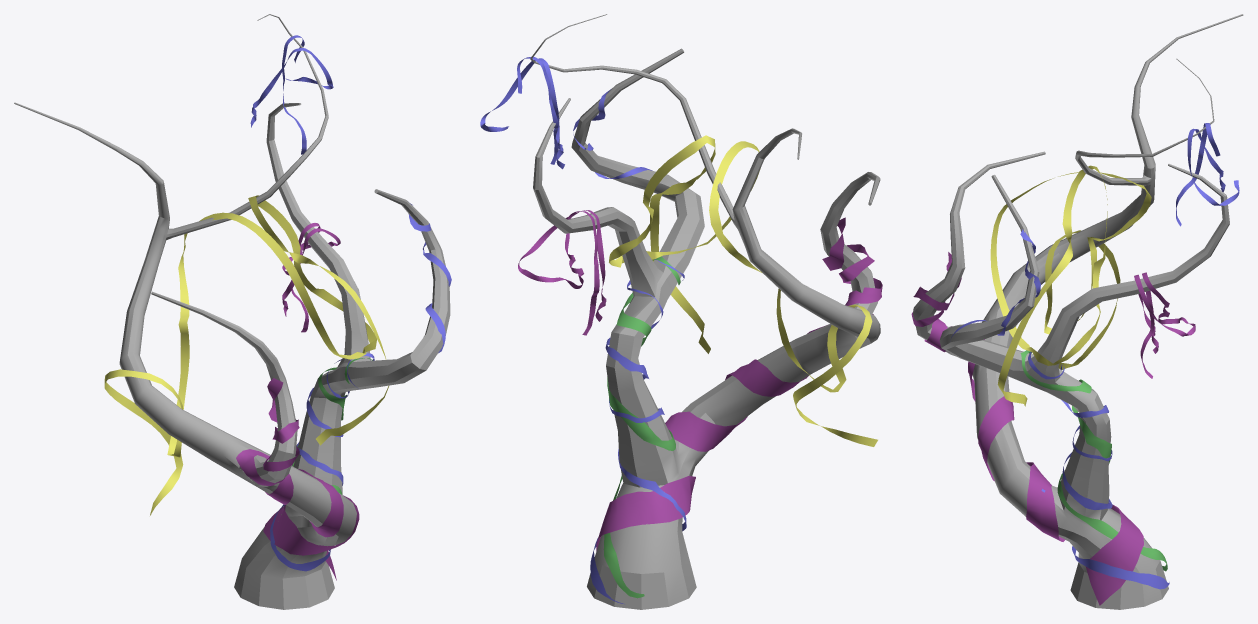
The model's file is Tree-ribbbon02.fbx.
3 views of the same model, side by side, from view 1: azimuth 30°, elevation 25°; view 2: azimuth 150°, elevation 25°; view 3: azimuth 270°, elevation 25° (orthographic). The views are drawn at different scales.
Visible parts, largest first — view 1: polySurface18; view 2: polySurface18; view 3: polySurface18.
Boxes of the visible parts, bbox=[...] form: polySurface18: bbox=[14, 14, 451, 609]; polySurface18: bbox=[480, 14, 882, 609]; polySurface18: bbox=[911, 14, 1243, 609].
Bounding box in the file's own units: 988 × 1624 × 917.
